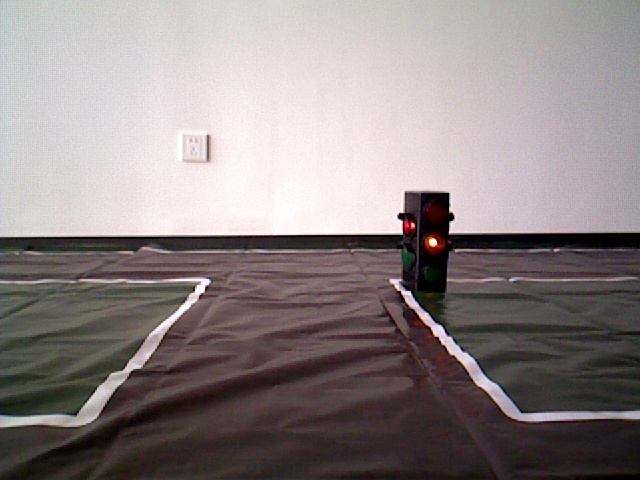yellow: (406, 193, 448, 294)
